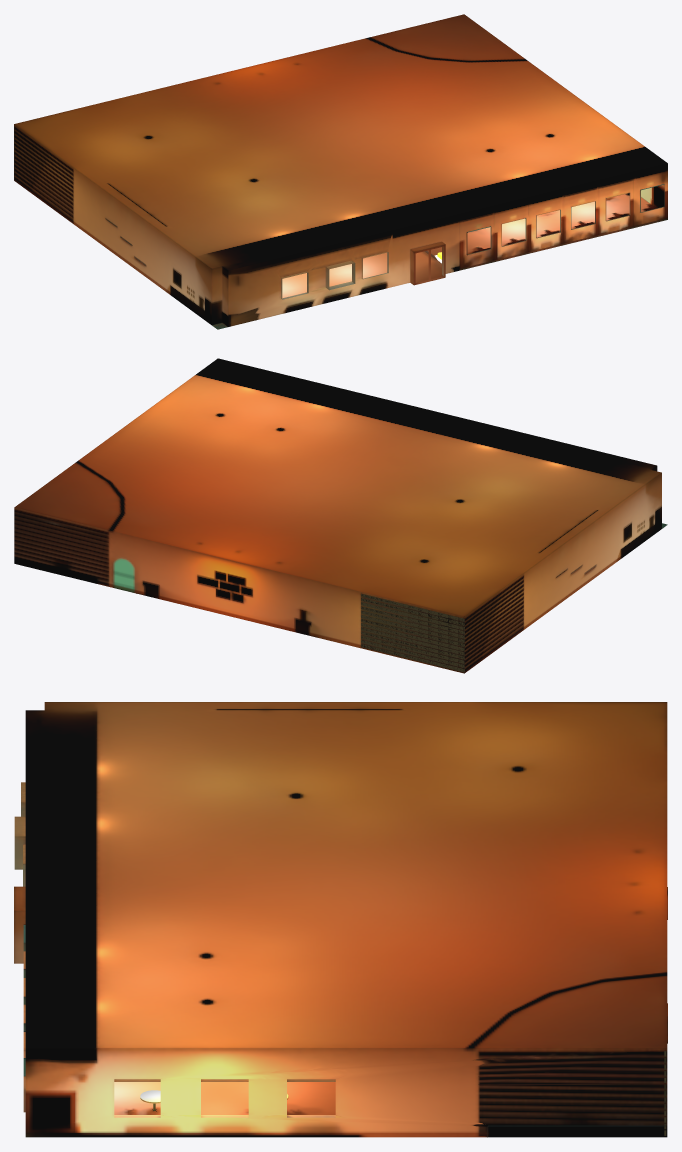
The model's file is cafe_baked.gltf.
The picture shows the model from 3 angles, top to bottom: view 1: azimuth 30°, elevation 25°; view 2: azimuth 150°, elevation 25°; view 3: azimuth 270°, elevation 25°; orthographic projection. The views are drawn at different scales.
Visible parts, largest first — view 1: Cylinder.020_Baked; view 2: Cylinder.020_Baked; view 3: Cylinder.020_Baked.
Boxes of the visible parts, x1,y1,x2,y2 form: Cylinder.020_Baked: [14, 14, 667, 329]; Cylinder.020_Baked: [14, 358, 667, 673]; Cylinder.020_Baked: [14, 702, 667, 1137].
Size of the model in its own units: 87.63 by 10.5 by 69.41.
6 materials, 4 textured.
